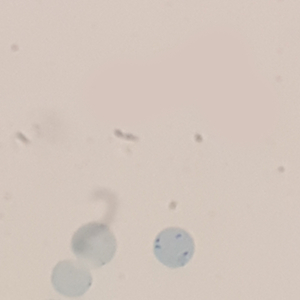aggregate reticulocyte: (152, 226, 197, 270)
punctate reticulocyte: (69, 221, 119, 270), (49, 257, 95, 299)
